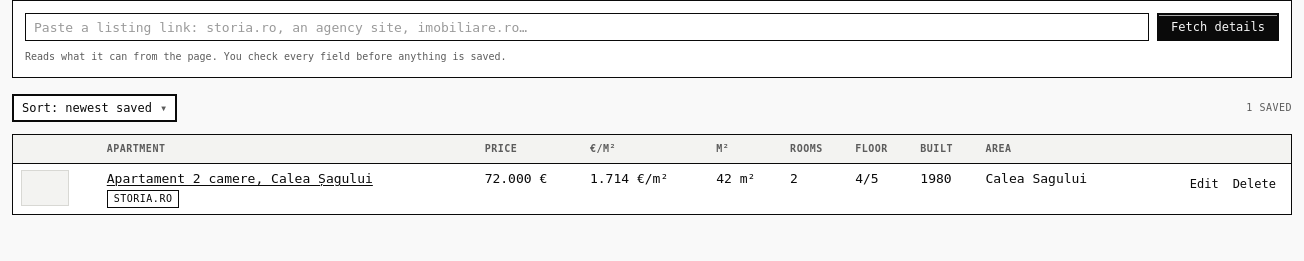
<SavedPage> add by link › says a link is already saved instead of fetching it again
In the field labelled "listing link": (587, 27) [25,13,1149,41], type "https://www.storia.ro/ro/oferta/apartament-2-camere-IDIUGS"
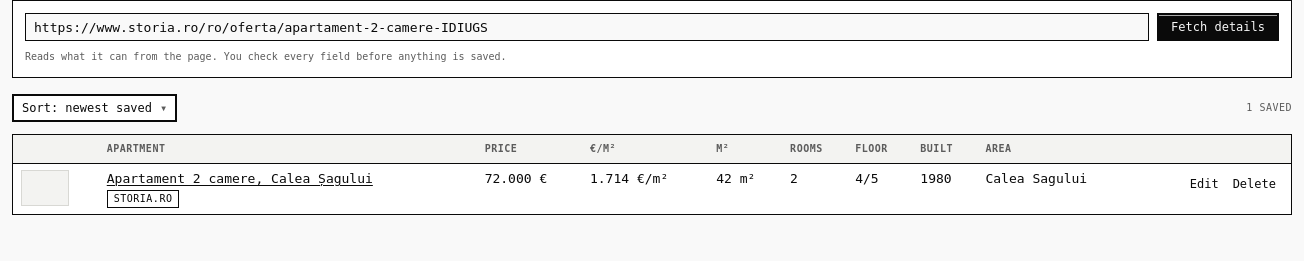
Click the button "Fetch details": (1218, 27) [1157,13,1279,41]
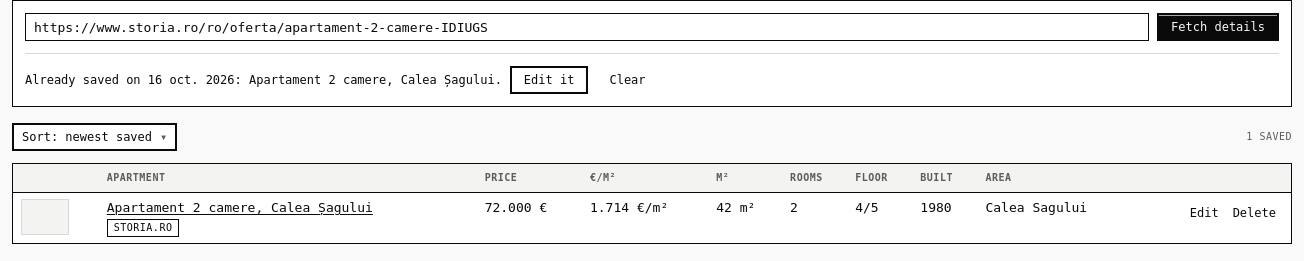
Check: the text "Already saved on" is shown, box [25,73,148,87]
Check: the button "Edit it" is shown, box [510,66,588,94]
